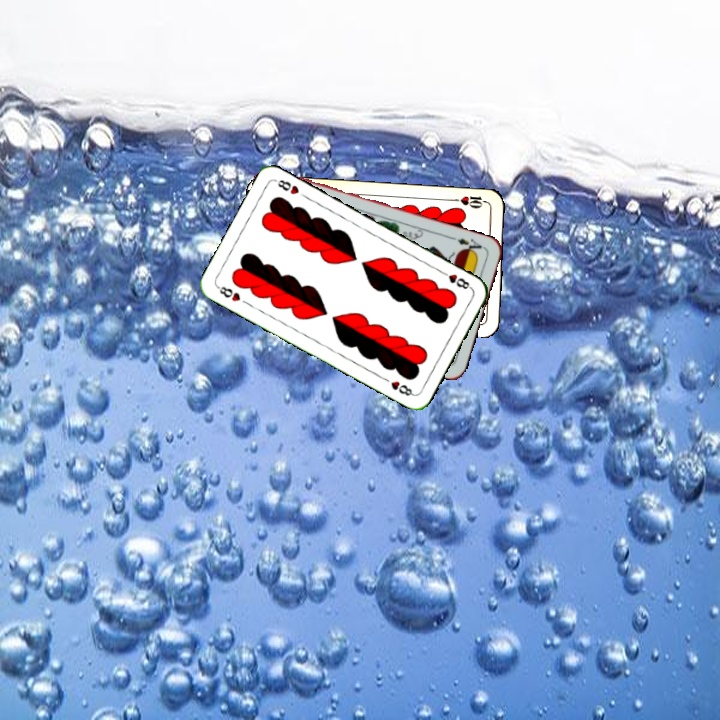EA: (448, 233, 488, 257)
H10: (450, 192, 490, 211)
H8: (436, 267, 474, 292), (213, 282, 243, 304)
